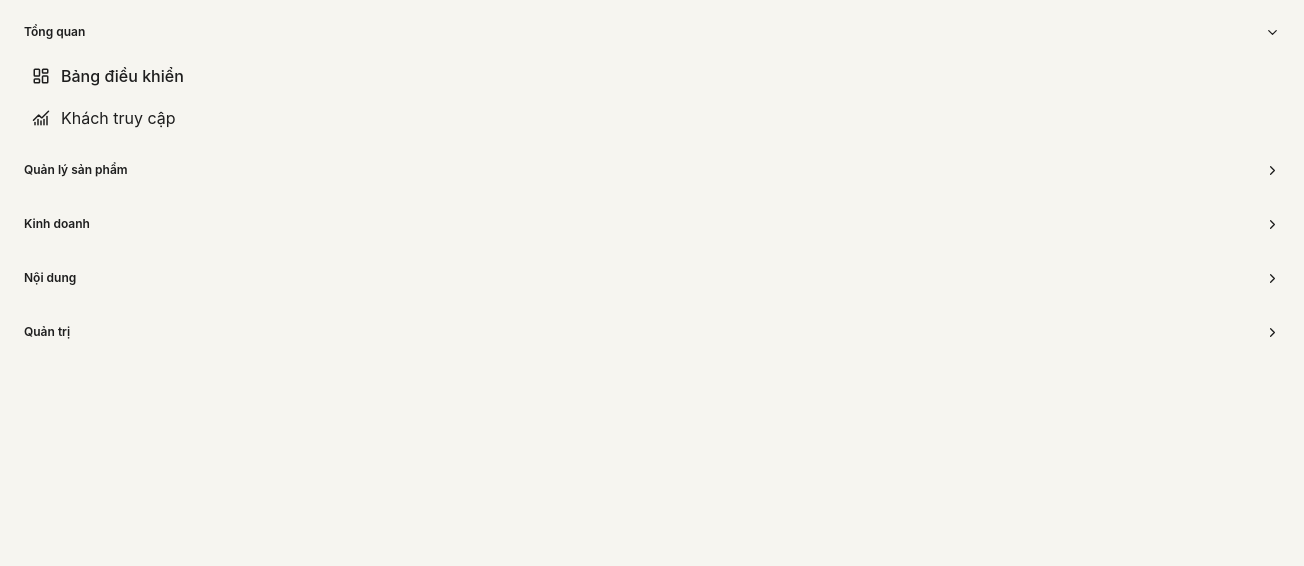
opens multiple groups, keeps active group manually closable, persists and reopens on navigation
Later steps or results of the test are not shown.
Click the button "Quản lý sản phẩm".
click(76, 170)  # box [12, 148, 1292, 192]
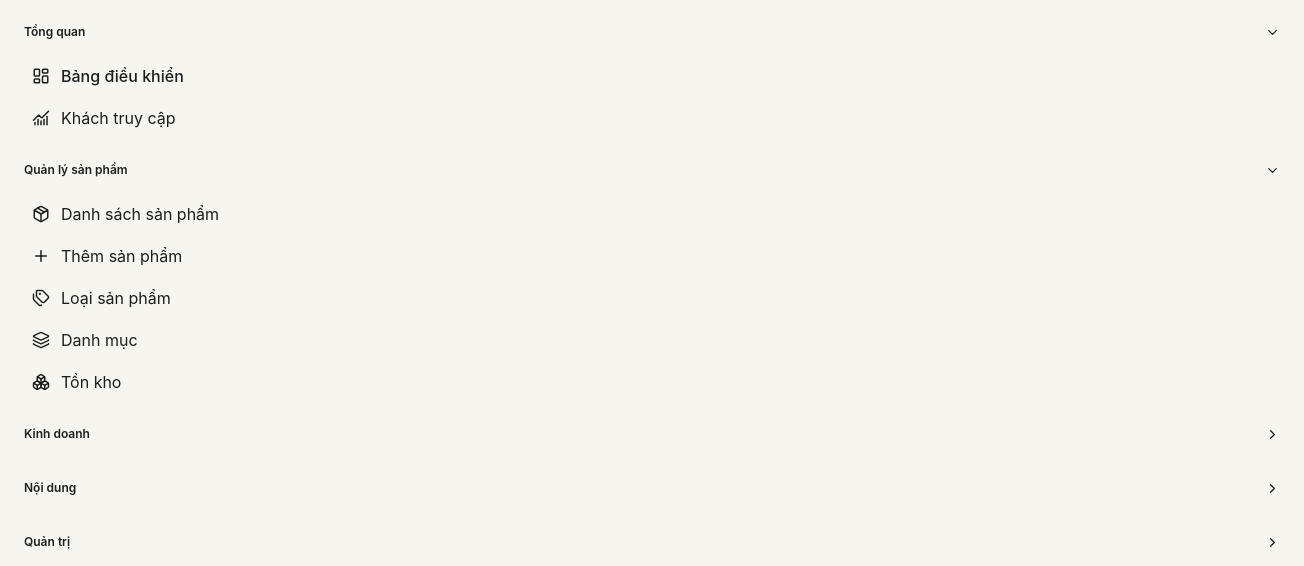
Result: the button "Quản lý sản phẩm" is expanded at [12, 148, 1292, 192]
Click the button "Tổng quan".
click(55, 32)  # box [12, 10, 1292, 54]
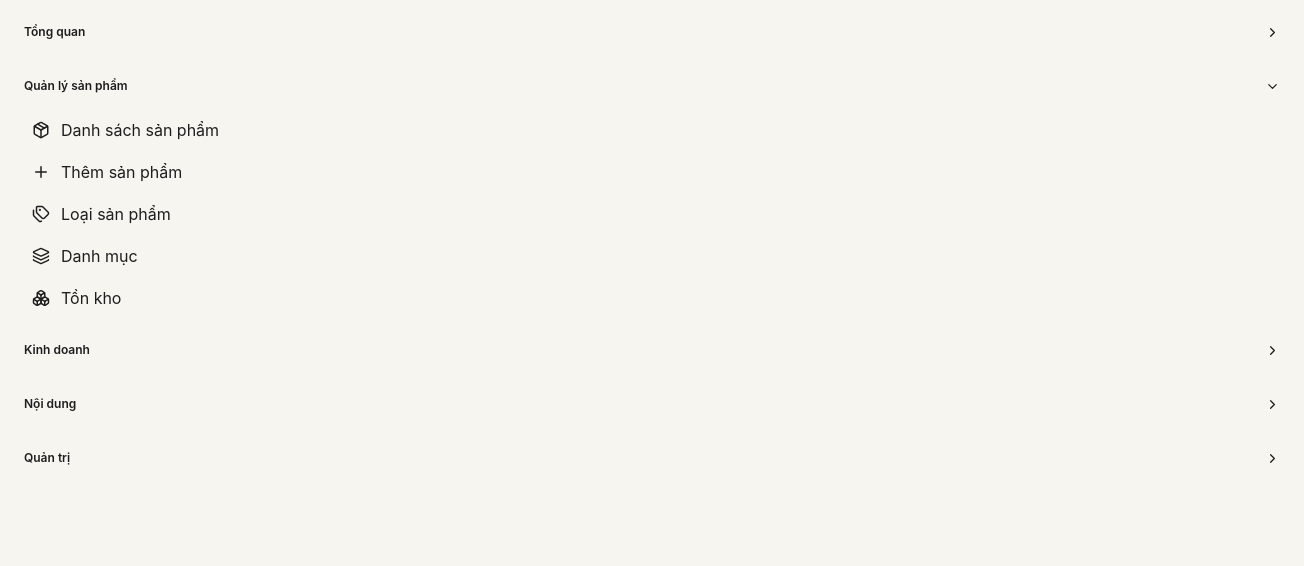
Result: the button "Tổng quan" is collapsed at [12, 10, 1292, 54]
